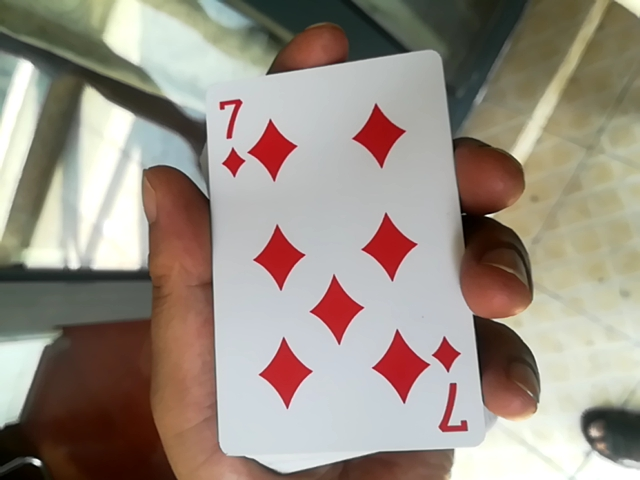fk 7: (189, 46, 464, 461)
